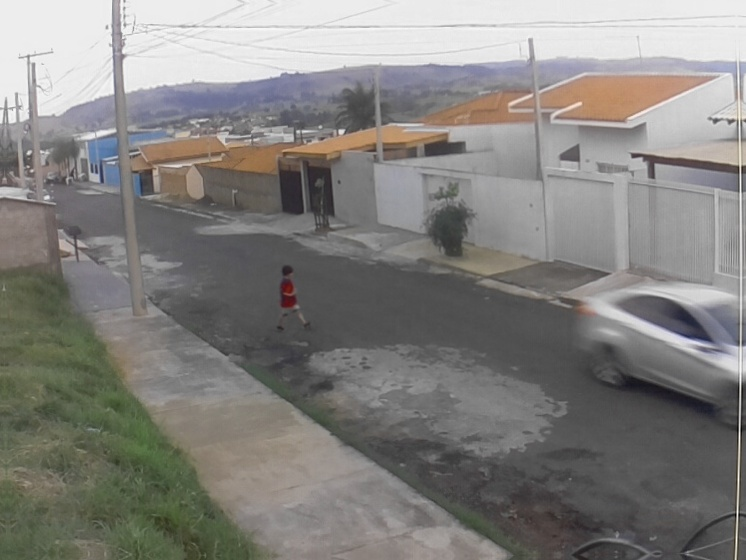person: (275, 264, 312, 332)
